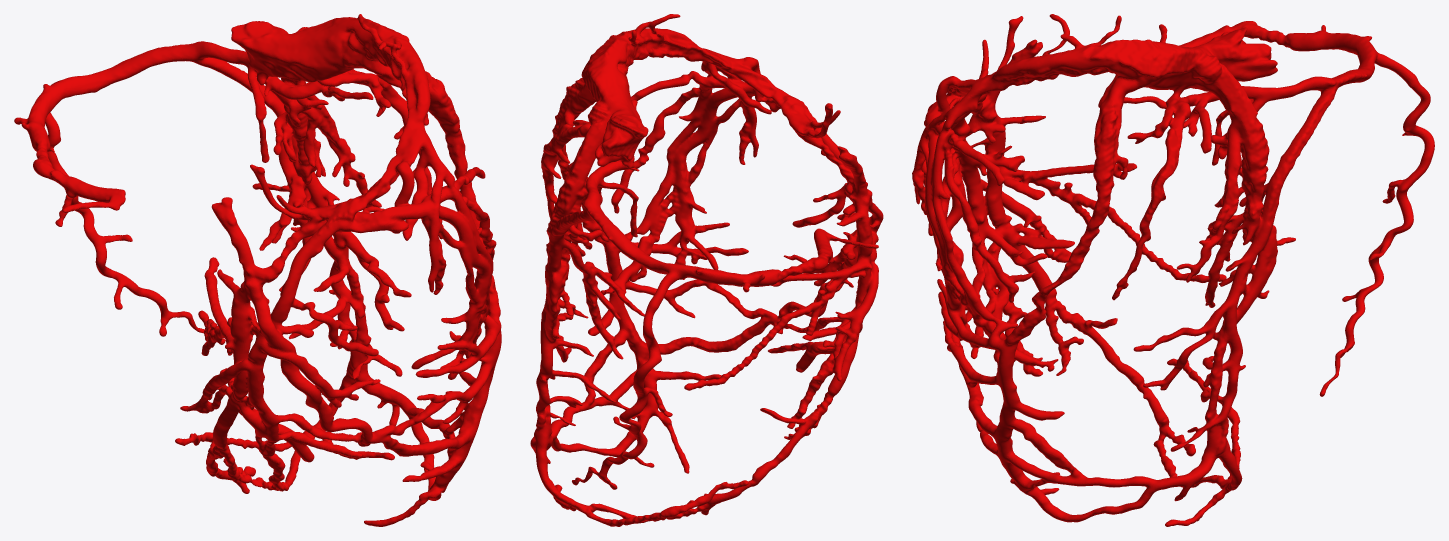
Rendered from combined_coronary_vasculature_model-_heart0256.glb.
3 renders of one model, left to right at view 1: azimuth 30°, elevation 25°; view 2: azimuth 150°, elevation 25°; view 3: azimuth 270°, elevation 25°, orthographic. The views are drawn at different scales.
Parts seen in each view (by area): view 1: Object_3, Object_2, Object_4, Object_6, Object_7, Object_5, Object_8, Object_9; view 2: Object_2, Object_4, Object_3, Object_5, Object_7, Object_6, Object_8, Object_9; view 3: Object_8, Object_7, Object_6, Object_5, Object_4, Object_2, Object_3, Object_9.
Part boxes in pixels (x1,y1,x2,y2): Object_3: [207, 18, 501, 456]; Object_2: [180, 41, 493, 441]; Object_4: [204, 17, 501, 526]; Object_6: [49, 21, 401, 469]; Object_7: [14, 20, 413, 480]; Object_5: [33, 17, 500, 505]; Object_8: [104, 14, 482, 523]; Object_9: [217, 45, 485, 525]; Object_2: [609, 14, 878, 381]; Object_4: [540, 24, 881, 481]; Object_3: [602, 32, 883, 415]; Object_5: [530, 27, 878, 526]; Object_7: [531, 75, 867, 525]; Object_6: [532, 42, 832, 521]; Object_8: [532, 14, 866, 521]; Object_9: [581, 28, 876, 466]; Object_8: [1007, 15, 1194, 525]; Object_7: [1121, 21, 1434, 520]; Object_6: [1146, 28, 1369, 509]; Object_5: [976, 21, 1430, 526]; Object_4: [951, 29, 1271, 522]; Object_2: [912, 14, 1089, 387]; Object_3: [937, 18, 1247, 449]; Object_9: [995, 16, 1065, 519].
Bounding box in the file's own units: 103 × 129 × 124.
